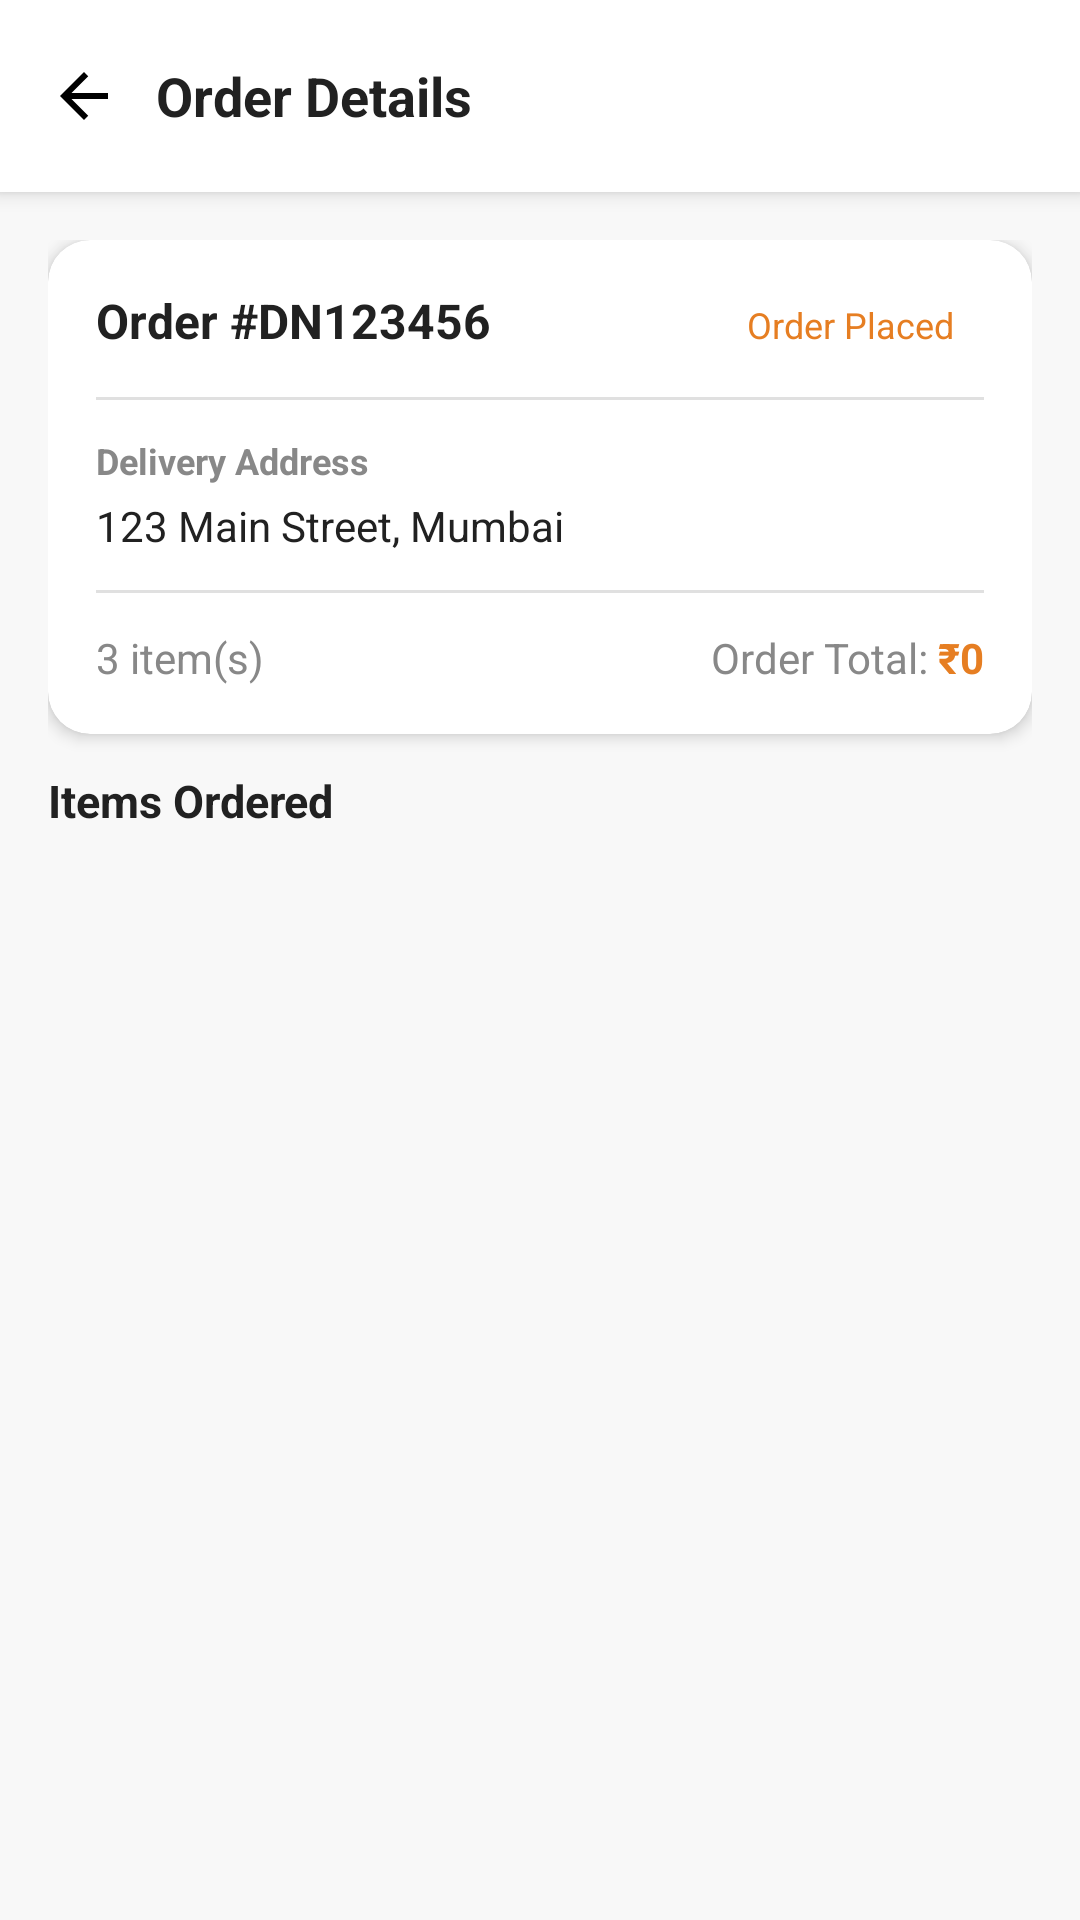

Icons on this 1080px x 1920px Android screen, each with its box as (x1=x1, y1=y1, x2=x2, y2=y2):
back: (x1=60, y1=72, x2=108, y2=120)
